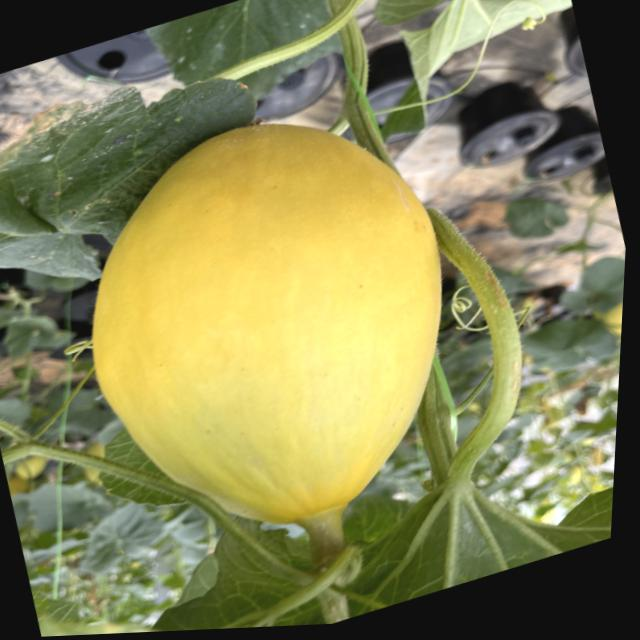alternaria leaf blight: (0, 36, 296, 320)
